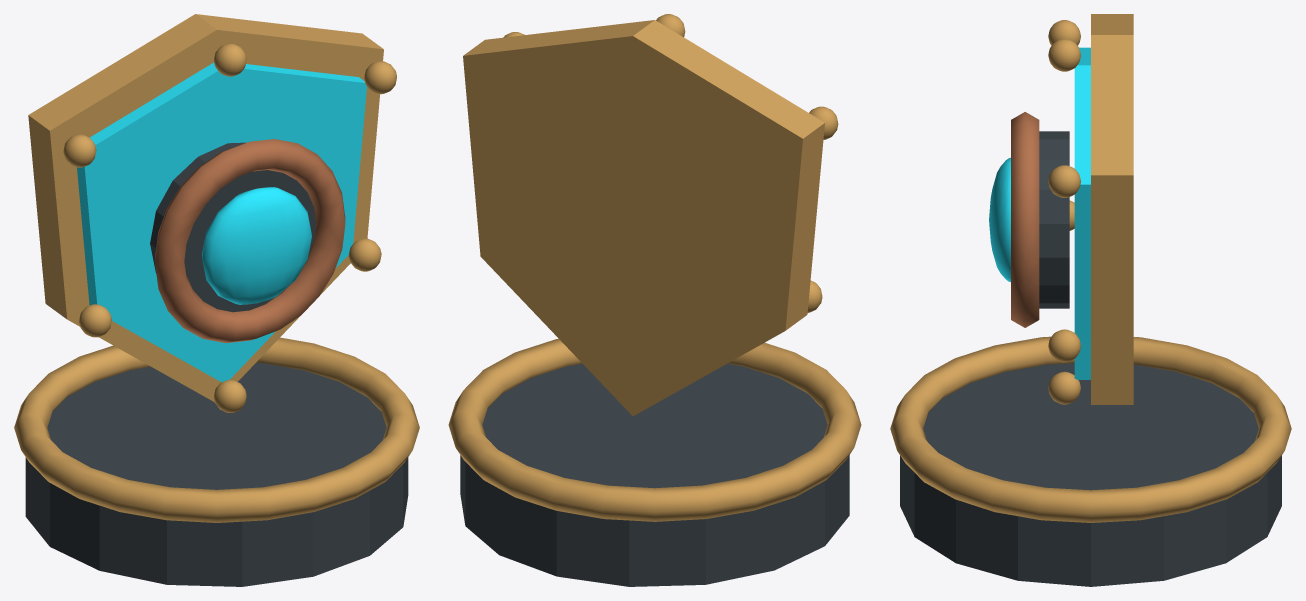
The model's file is shield.glb.
3 views of the same model, side by side, from view 1: azimuth 30°, elevation 25°; view 2: azimuth 150°, elevation 25°; view 3: azimuth 270°, elevation 25° (orthographic). The views are drawn at different scales.
Visible parts, largest first — view 1: SM_UpgradeShield; view 2: SM_UpgradeShield; view 3: SM_UpgradeShield.
Boxes of the visible parts, <box> form: SM_UpgradeShield: <box>14,14,419,586</box>; SM_UpgradeShield: <box>448,14,861,586</box>; SM_UpgradeShield: <box>890,14,1291,586</box>.
Size of the model in its own units: 0.61 by 0.79 by 0.61.
